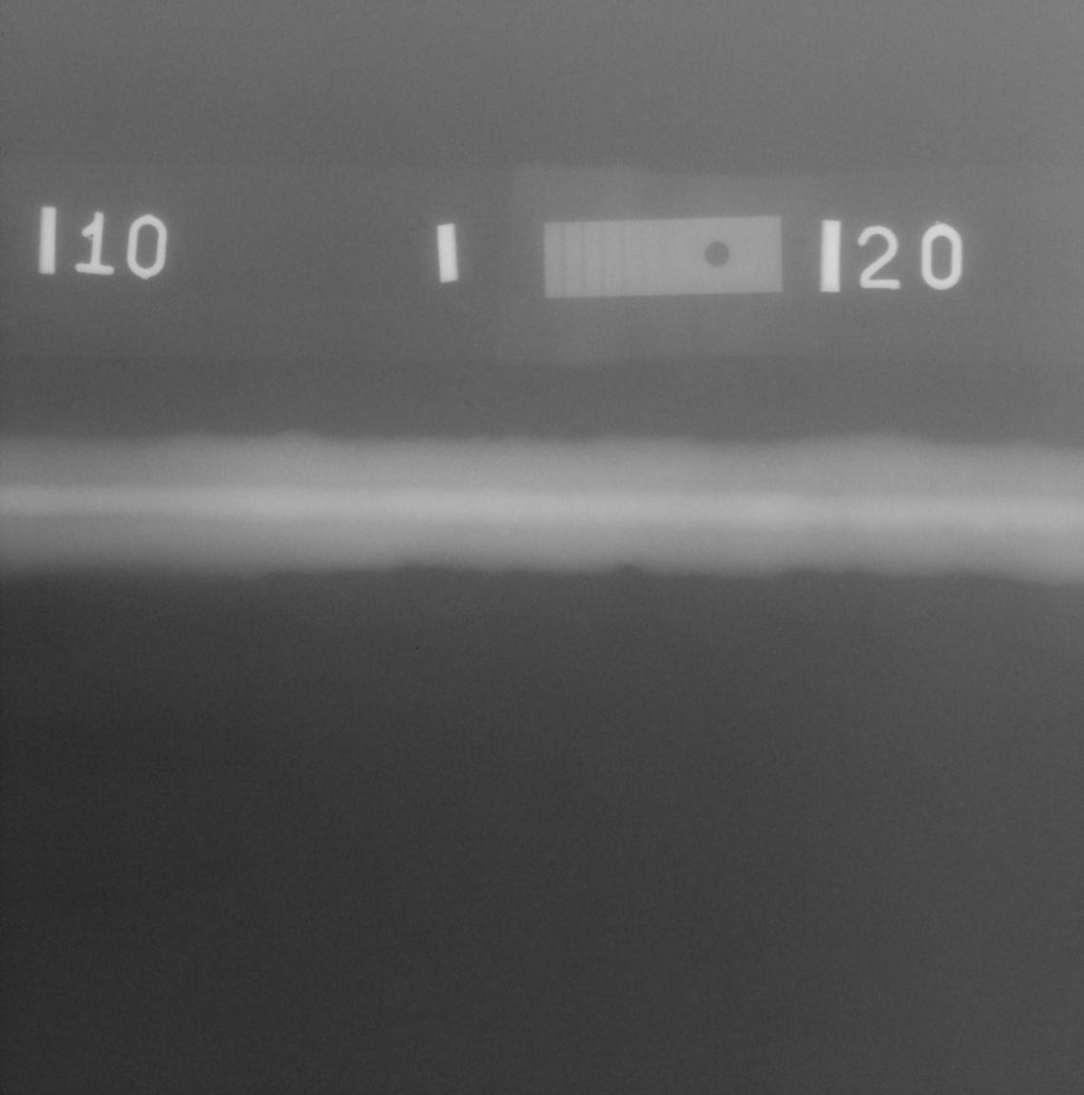Reference Standard 1: (544, 215, 784, 300)
